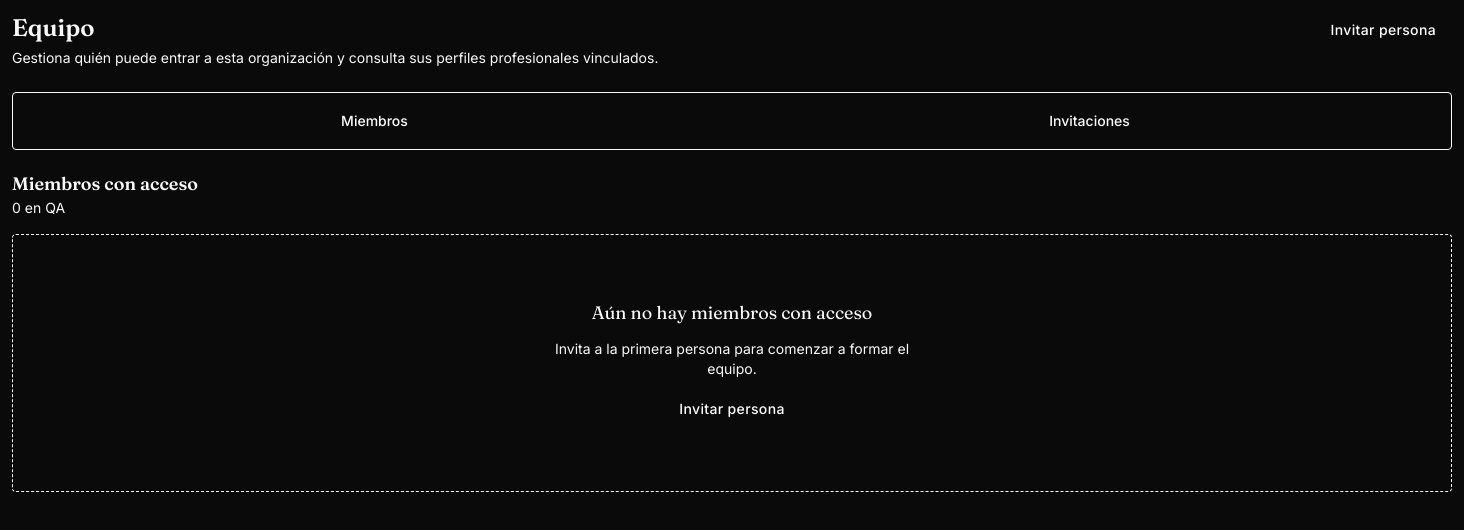
it: no afirma Enviada para FAILED o PENDING; muestra vencimiento y conserva Reenviar
Click the tab "Invitaciones" at (1090, 121), box [734, 99, 1445, 143]
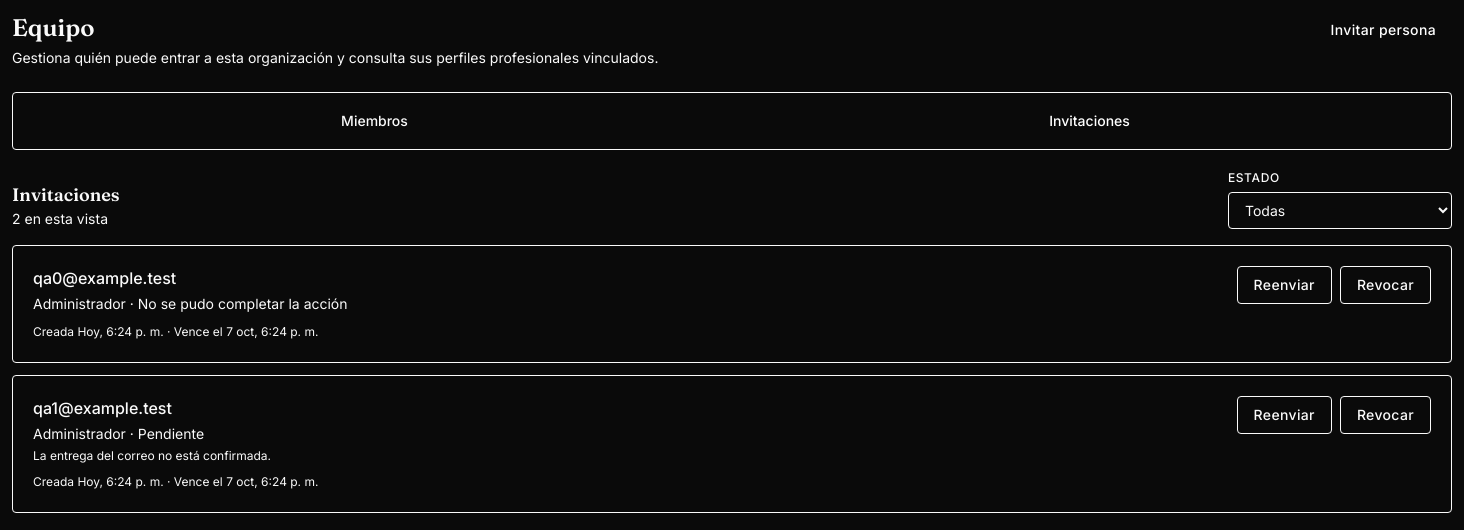
Expected: the text "Administrador · No se pudo completar la acción" is shown, [33, 294, 348, 314]
Expected: the text "La entrega del correo no está confirmada." is shown, [33, 448, 271, 463]
Expected: the text "7 oct, 6:24 p. m." is shown 2 times, [226, 324, 318, 339]; [226, 474, 318, 489]
